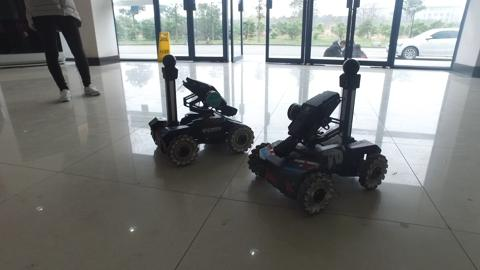chariot: (247, 56, 387, 221), (143, 52, 255, 163)
